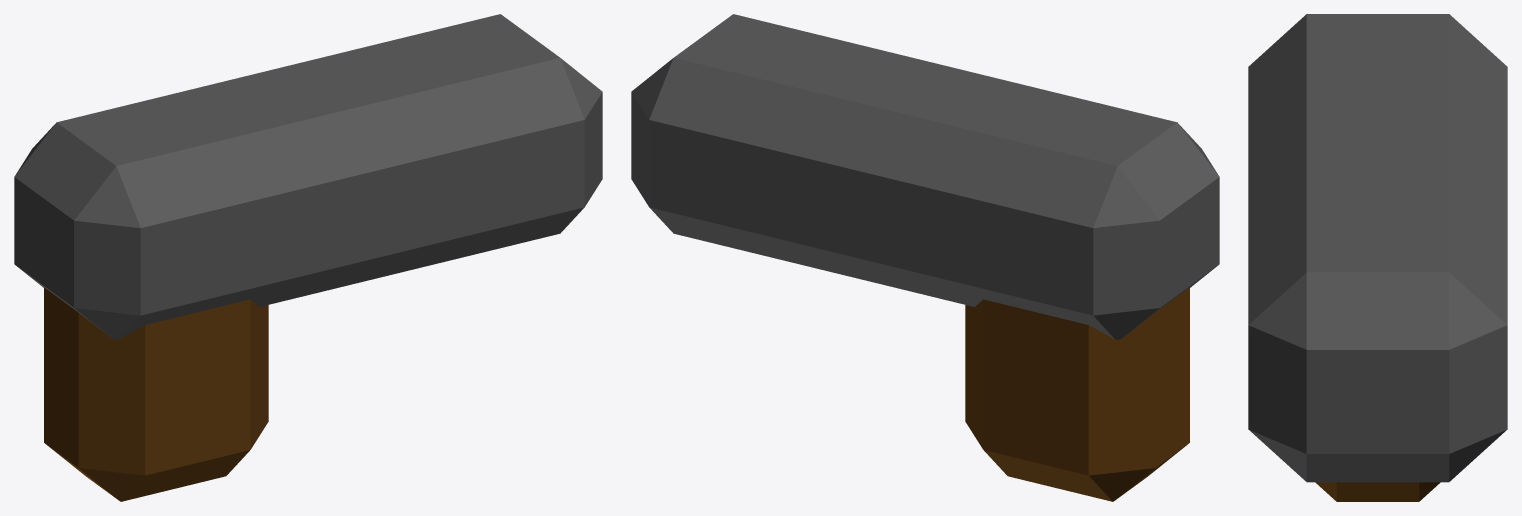
File: pistol.fbx
The picture shows the model from 3 angles, left to right: view 1: azimuth 30°, elevation 25°; view 2: azimuth 150°, elevation 25°; view 3: azimuth 270°, elevation 25°; orthographic projection. The views are drawn at different scales.
Visible parts, largest first — view 1: Cube_1, Cube; view 2: Cube_1, Cube; view 3: Cube_1, Cube.
Boxes of the visible parts, x1=… form: Cube_1: x1=14, y1=14, x2=602, y2=339; Cube: x1=44, y1=287, x2=268, y2=501; Cube_1: x1=631, y1=14, x2=1219, y2=339; Cube: x1=965, y1=287, x2=1189, y2=501; Cube_1: x1=1248, y1=14, x2=1507, y2=482; Cube: x1=1315, y1=482, x2=1440, y2=501.
Size of the model in its own units: 200 by 126 by 71.19.
